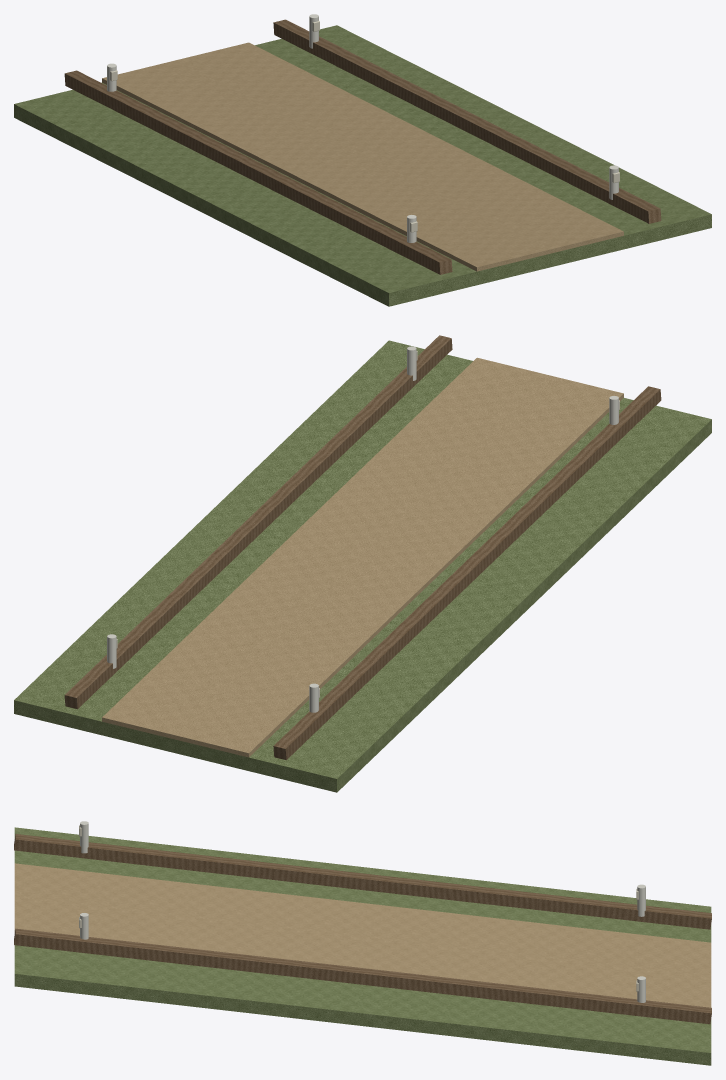
File: ROAD_DIRT_SLOPE_1x2_DOWN_050.glb
3 renders of one model, top to bottom at view 1: azimuth 30°, elevation 25°; view 2: azimuth 150°, elevation 25°; view 3: azimuth 270°, elevation 25°, orthographic. The views are drawn at different scales.
Visible parts, largest first — view 1: ROAD_DIRT_SLOPE_1x2_DOWN_050_Visual; view 2: ROAD_DIRT_SLOPE_1x2_DOWN_050_Visual; view 3: ROAD_DIRT_SLOPE_1x2_DOWN_050_Visual.
Boxes of the visible parts, x1,y1,x2,y2 form: ROAD_DIRT_SLOPE_1x2_DOWN_050_Visual: [14, 14, 711, 306]; ROAD_DIRT_SLOPE_1x2_DOWN_050_Visual: [14, 335, 711, 792]; ROAD_DIRT_SLOPE_1x2_DOWN_050_Visual: [14, 821, 711, 1065].
Size of what is drawn, in the model's own units: 1.98 by 0.78 by 3.99.
5 materials, 3 textured.
